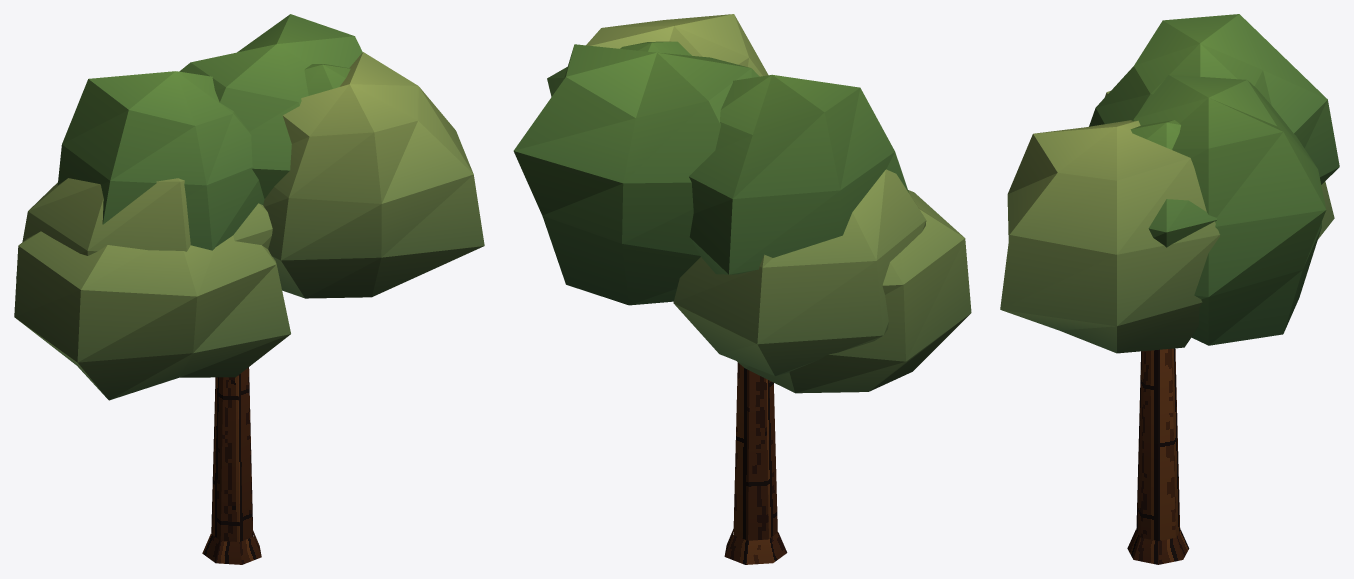
Rendered from oak_1_lowpoly.glb.
The picture shows the model from 3 angles, left to right: view 1: azimuth 30°, elevation 25°; view 2: azimuth 150°, elevation 25°; view 3: azimuth 270°, elevation 25°; orthographic projection. The views are drawn at different scales.
Parts seen in each view (by area): view 1: oak_1_lowpoly; view 2: oak_1_lowpoly; view 3: oak_1_lowpoly.
Part boxes in pixels (x1,y1,x2,y2): oak_1_lowpoly: (14,14,484,564); oak_1_lowpoly: (513,14,971,564); oak_1_lowpoly: (1000,14,1339,564).
Size of the model in its own units: 5.31 by 6.12 by 3.85.
2 materials, 1 textured.
